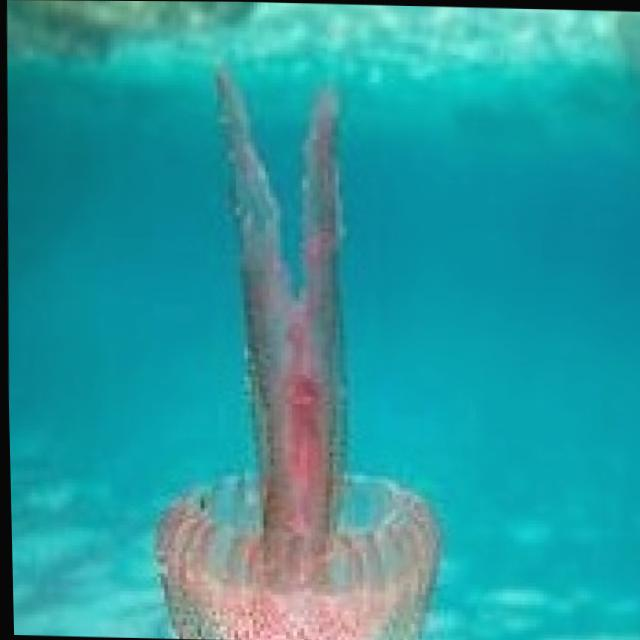Box-jellyfish: (138, 57, 453, 640)
